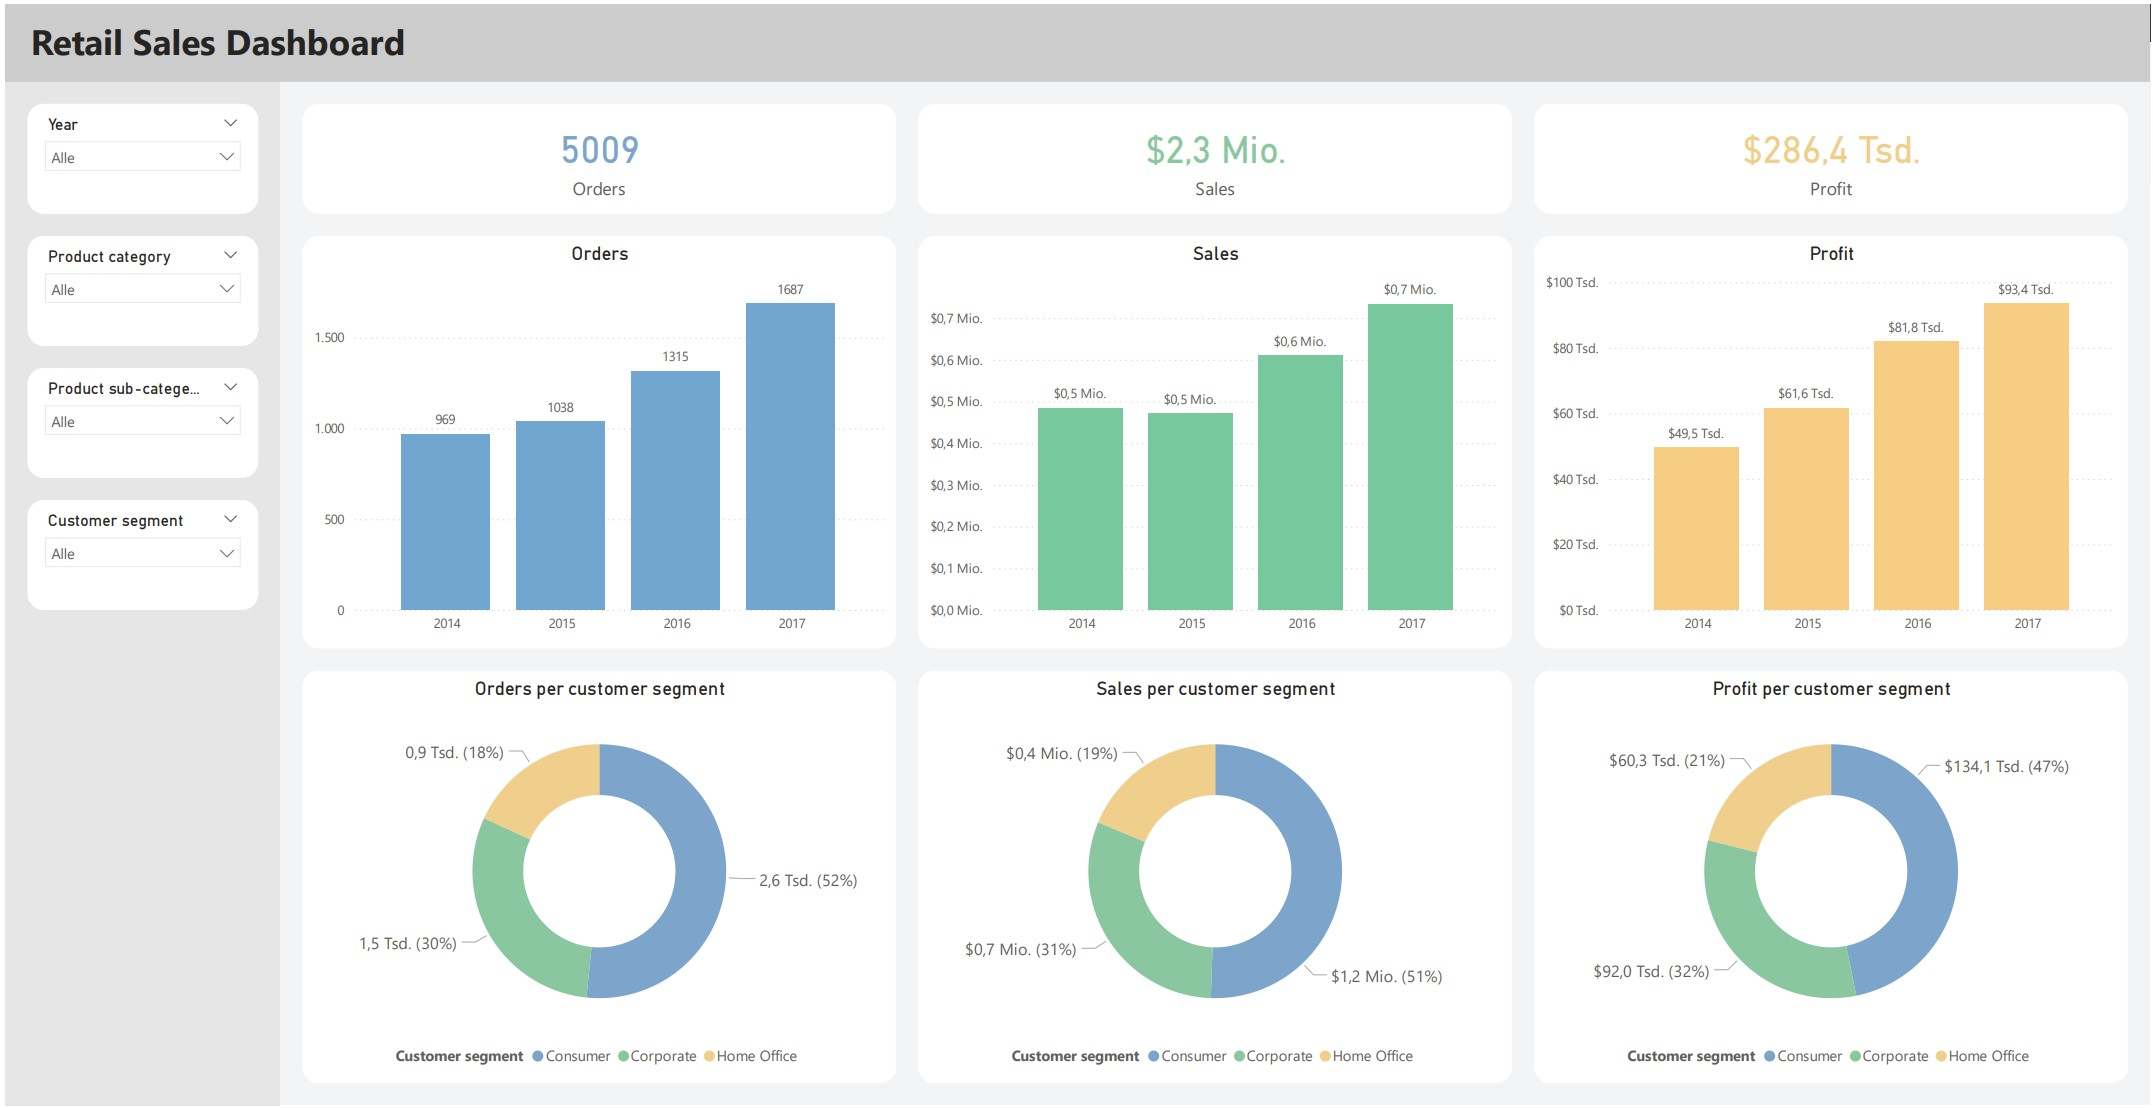

This screenshot's page, from the dashboard's own definition file:
{"tool":"powerbi","page":{"name":"Retail Sales Dashboard","canvas":[1950,1000],"ordinal":0},"visuals":[{"type":"textbox","box":[0,0,250,1100],"z":0},{"type":"textbox","box":[0,0,1950,70],"z":1000},{"type":"card","fields":{"Values":["Count(public fact_product_to_orders.order_id)"]},"box":[270,90,540,100],"z":2000},{"type":"card","fields":{"Values":["Sum(public fact_product_to_orders.profit)"]},"box":[1390,90,540,100],"z":3000},{"type":"card","fields":{"Values":["Sum(public fact_product_to_orders.sales)"]},"box":[830,90,540,100],"z":4000},{"type":"columnChart","title":"Orders","fields":{"Category":["public fact_orders.order_date_year"],"Y":["Count(public fact_orders.order_id)"]},"box":[270,210,540,375],"z":5000},{"type":"columnChart","title":"Sales","fields":{"Category":["public fact_orders.order_date_year"],"Y":["Sum(public fact_product_to_orders.sales)"]},"box":[830,210,540,375],"z":6000},{"type":"columnChart","title":"Profit","fields":{"Category":["public fact_orders.order_date_year"],"Y":["Sum(public fact_product_to_orders.profit)"]},"box":[1390,210,540,375],"z":7000},{"type":"donutChart","title":"Profit per customer segment","fields":{"Y":["Sum(public fact_product_to_orders.profit)"],"Category":["public dim_customers.segment"]},"box":[1390,605,540,375],"z":8000},{"type":"donutChart","title":"Orders per customer segment","fields":{"Y":["Count(public fact_orders.order_id)"],"Category":["public dim_customers.segment"]},"box":[270,605,540,375],"z":9000},{"type":"donutChart","title":"Sales per customer segment","fields":{"Y":["Sum(public fact_product_to_orders.sales)"],"Category":["public dim_customers.segment"]},"box":[830,605,540,375],"z":10000},{"type":"slicer","fields":{"Values":["public fact_orders.order_date_year"]},"box":[20,90,210,100],"z":11000},{"type":"slicer","fields":{"Values":["public dim_products.product_category"]},"box":[20,210,210,100],"z":12000},{"type":"slicer","fields":{"Values":["public dim_products.product_sub_category"]},"box":[20,330,210,100],"z":13000},{"type":"slicer","fields":{"Values":["public dim_customers.segment"]},"box":[20,450,210,100],"z":14000}]}

Visuals, with their boxes in screenshot pixels (x1, y1, x2, y2), scaled from the page's 1950x1000 canvas onto the 2153x1108 screenshot:
textbox: [left=0, top=0, right=276, bottom=1107]
textbox: [left=0, top=0, right=2152, bottom=78]
card - Count(public fact_product_to_orders.order_id): [left=298, top=100, right=894, bottom=211]
card - Sum(public fact_product_to_orders.profit): [left=1535, top=100, right=2131, bottom=211]
card - Sum(public fact_product_to_orders.sales): [left=916, top=100, right=1513, bottom=211]
"Orders" columnChart: [left=298, top=233, right=894, bottom=648]
"Sales" columnChart: [left=916, top=233, right=1513, bottom=648]
"Profit" columnChart: [left=1535, top=233, right=2131, bottom=648]
"Profit per customer segment" donutChart: [left=1535, top=670, right=2131, bottom=1086]
"Orders per customer segment" donutChart: [left=298, top=670, right=894, bottom=1086]
"Sales per customer segment" donutChart: [left=916, top=670, right=1513, bottom=1086]
slicer - public fact_orders.order_date_year: [left=22, top=100, right=254, bottom=211]
slicer - public dim_products.product_category: [left=22, top=233, right=254, bottom=343]
slicer - public dim_products.product_sub_category: [left=22, top=366, right=254, bottom=476]
slicer - public dim_customers.segment: [left=22, top=499, right=254, bottom=609]
